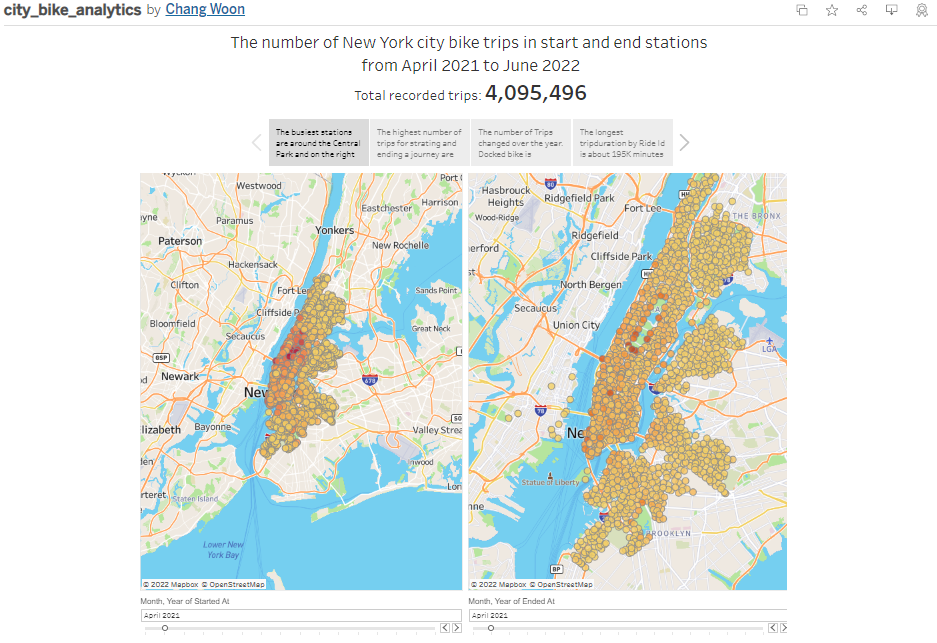

What the dashboard file says about the page in this screenshot:
{"tool":"tableau","page":{"name":"Dashboard 1","canvas":[1000,800],"ordinal":0},"visuals":[{"type":"worksheet","title":"Map Start","mark":"Automatic","rows":["start_lat"],"cols":["start_lng"],"box":[8,8,492,709]},{"type":"worksheet","title":"Map Ended","mark":"Automatic","rows":["end_lat"],"cols":["end_lng"],"box":[500,8,492,709]},{"type":"image","param":"/Users/changwoonjang/Desktop/Tableau/city_bike.png","box":[312,9,184,44]},{"type":"image","param":"/var/folders/sl/87pnhpys67xgythxf5mp5jy00000gn/T/tableau-temp/06j31xi0on4t9y17lk","box":[802,10,184,44]},{"type":"filter","title":"Map Start","param":"[federated.0hfu42c167s23h17iz5j9054lt0d].[my:started_at:ok]","box":[8,717,492,75]},{"type":"filter","title":"Map Ended","param":"[federated.0hfu42c167s23h17iz5j9054lt0d].[my:ended_at:ok]","box":[500,717,492,75]}]}

Visuals, with their boxes on the page's 1000x800 design canvas (x1, y1, x2, y2). These are canvas units, not pixel positions in the 937x643 screenshot, which may show the page scaled, cropped or inside an application window:
"Map Start" worksheet: (8, 8, 500, 717)
"Map Ended" worksheet: (500, 8, 992, 717)
image: (312, 9, 496, 53)
image: (802, 10, 986, 54)
"Map Start" filter: (8, 717, 500, 792)
"Map Ended" filter: (500, 717, 992, 792)
